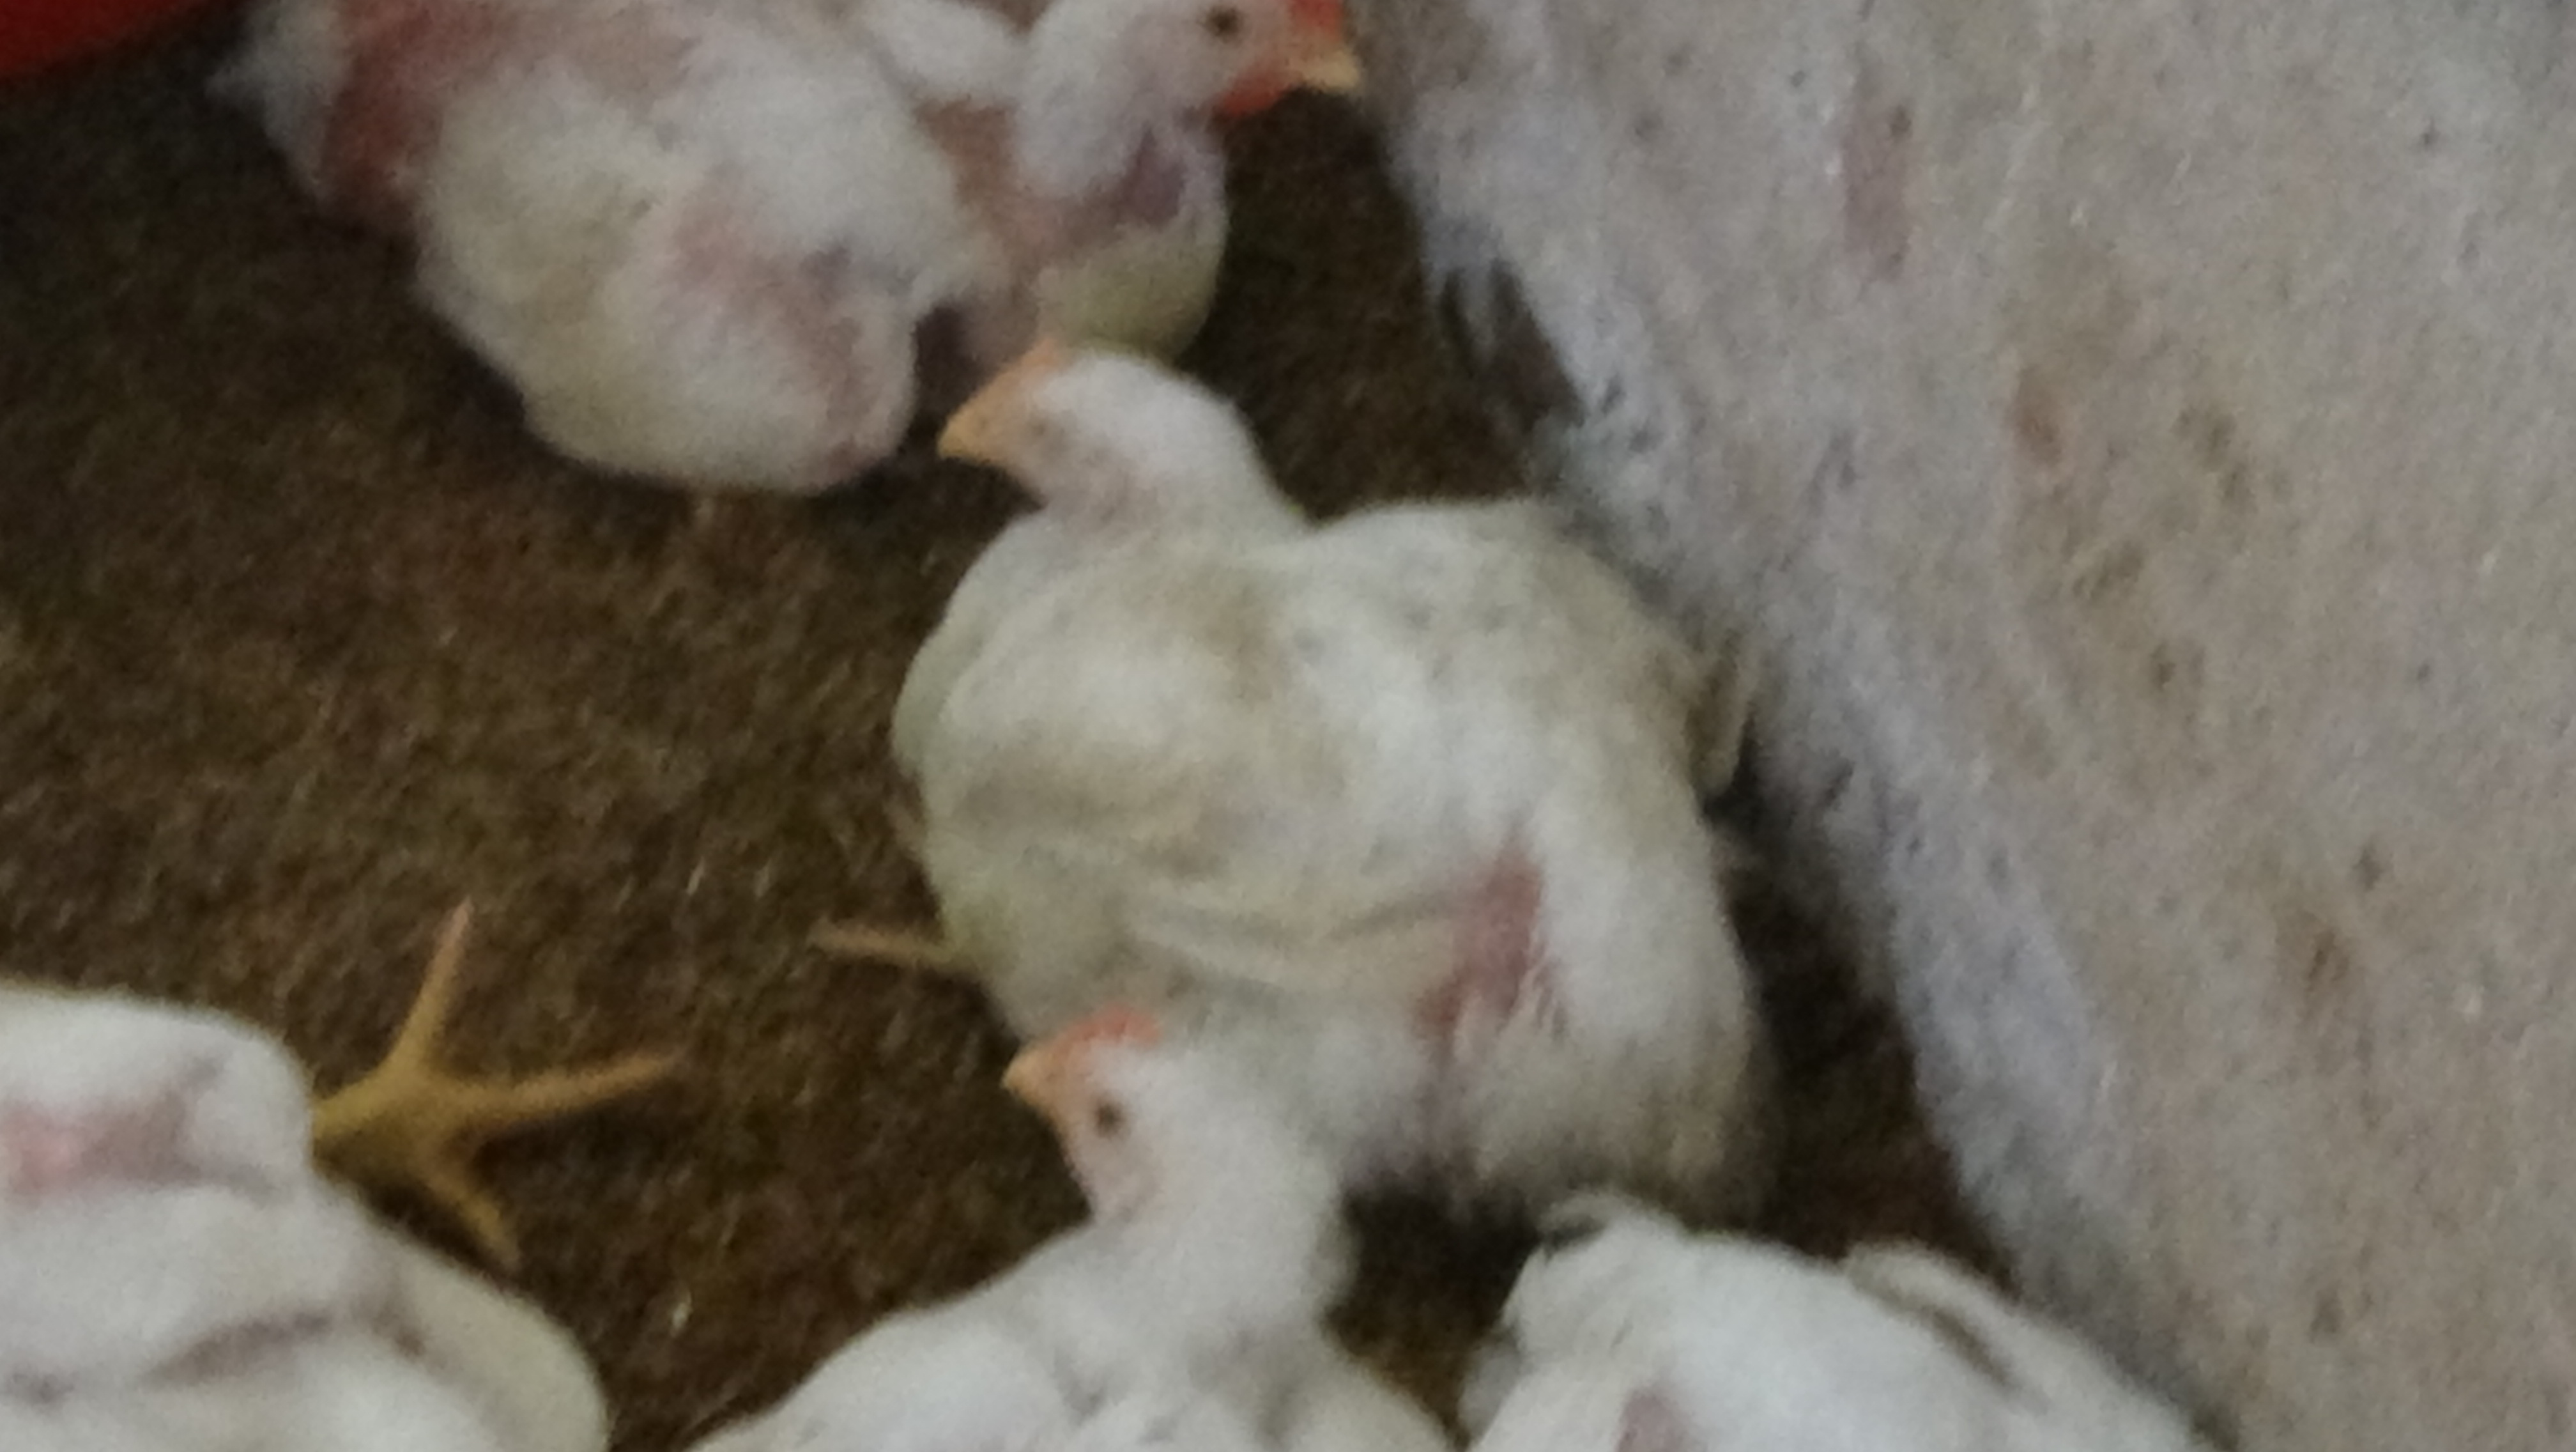Pollos: (867, 312, 1826, 1202), (207, 0, 1417, 514), (639, 988, 1479, 1452)
